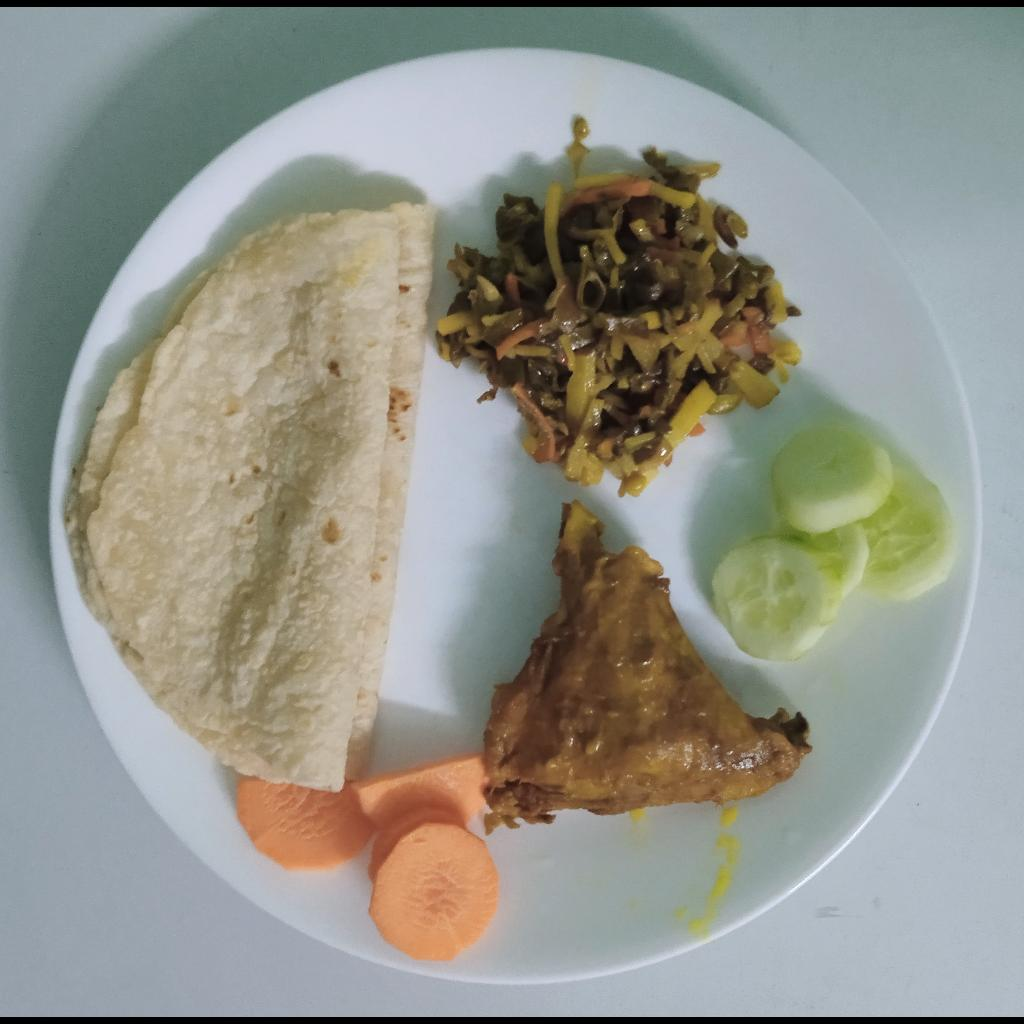carrot: (237, 756, 498, 961)
chicken: (481, 502, 811, 833)
cucumber: (714, 418, 961, 664)
ruti: (61, 202, 437, 792)
vegetable: (435, 151, 799, 499)
